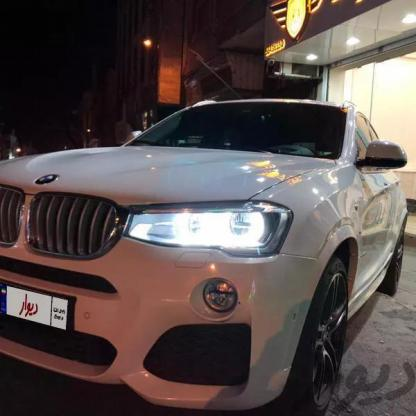Car: (0, 85, 416, 416)
